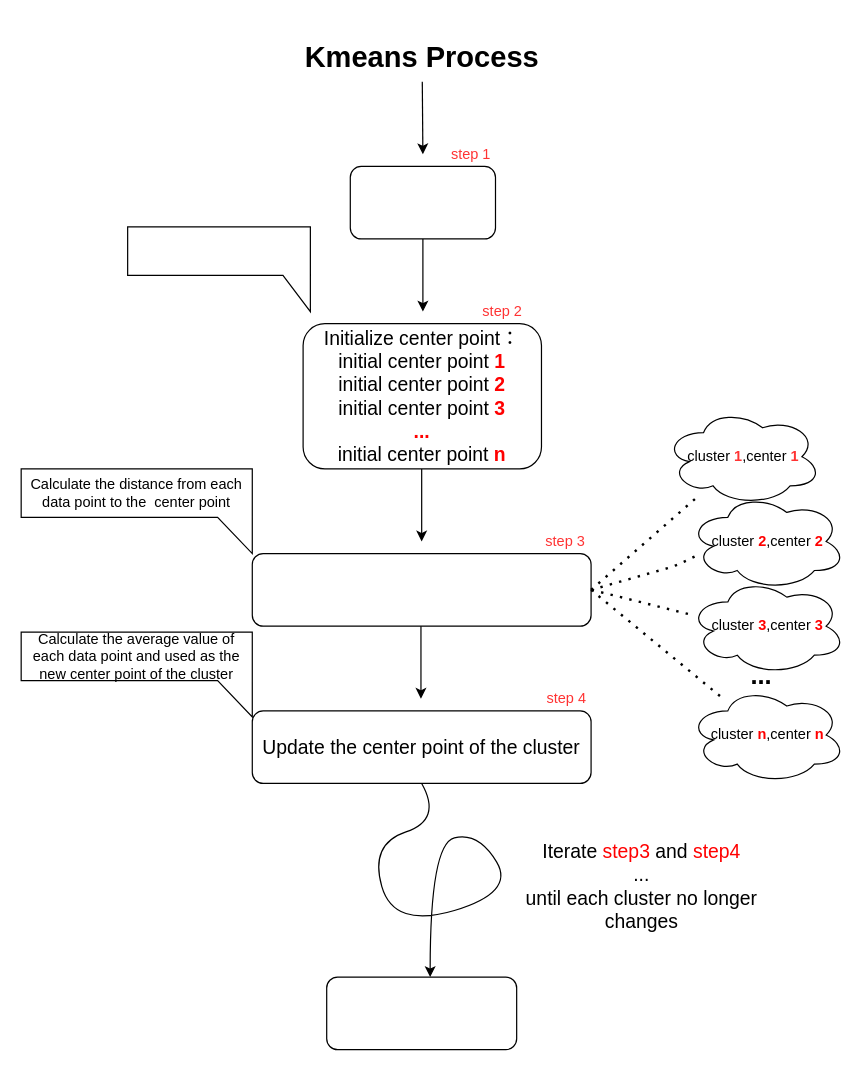
Image size: 868x1071. Some labels were removed from this diagram. The centre of each missing label's shape, as x and y in pixels:
"According to the number of clusters set in advance." goes at pixel 218 269.
"Assign data points to each cluster" goes at pixel 421 589.
"Get the final clusters" goes at pixel 421 1013.
"Loading Data" goes at pixel 422 202.
